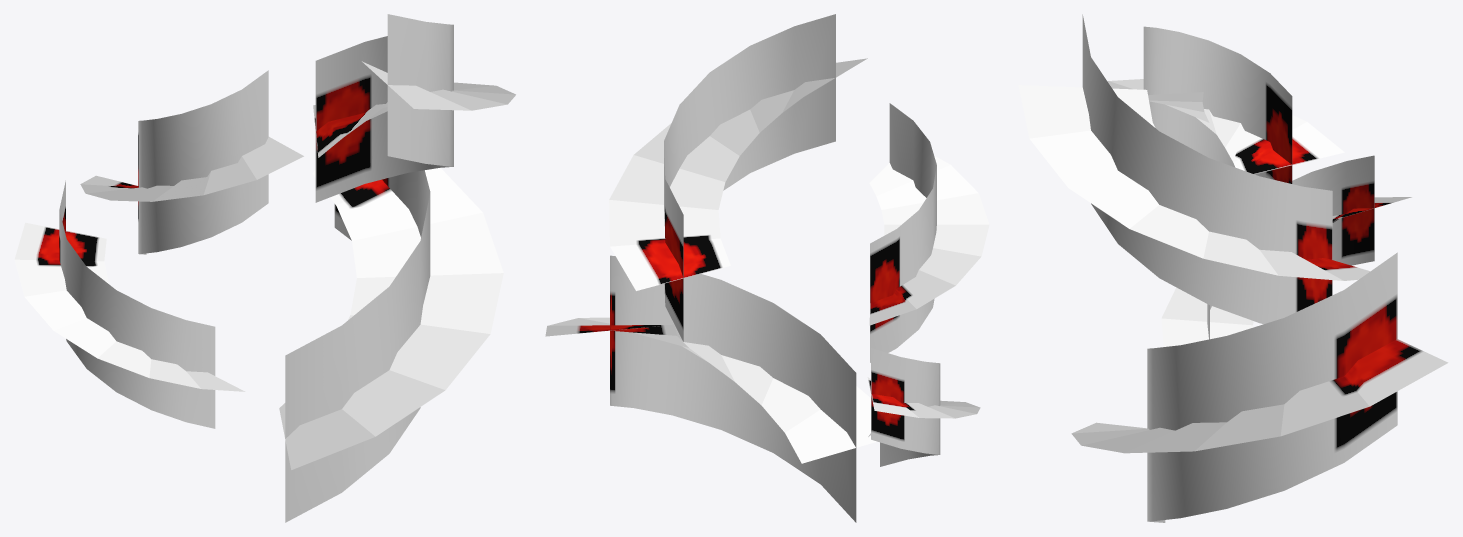
The model's file is effect_zhurong_standby.FBX.
3 views of the same model, side by side, from view 1: azimuth 30°, elevation 25°; view 2: azimuth 150°, elevation 25°; view 3: azimuth 270°, elevation 25° (orthographic). The views are drawn at different scales.
Parts seen in each view (by area): view 1: effect_zhurong_standby_1, effect_zhurong_standby_3, effect_zhurong_standby_2, effect_zhurong_standby_4; view 2: effect_zhurong_standby_1, effect_zhurong_standby_3, effect_zhurong_standby_4, effect_zhurong_standby_2; view 3: effect_zhurong_standby_1, effect_zhurong_standby_3, effect_zhurong_standby_4, effect_zhurong_standby_2.
Part boxes in pixels (x1,y1,x2,y2): effect_zhurong_standby_1: [279, 168, 503, 522]; effect_zhurong_standby_3: [313, 14, 515, 202]; effect_zhurong_standby_2: [14, 180, 245, 428]; effect_zhurong_standby_4: [80, 70, 303, 254]; effect_zhurong_standby_1: [545, 255, 876, 522]; effect_zhurong_standby_3: [609, 14, 867, 341]; effect_zhurong_standby_4: [869, 103, 989, 362]; effect_zhurong_standby_2: [867, 348, 980, 466]; effect_zhurong_standby_1: [1071, 252, 1448, 522]; effect_zhurong_standby_3: [1018, 14, 1369, 323]; effect_zhurong_standby_4: [1107, 26, 1344, 183]; effect_zhurong_standby_2: [1161, 155, 1411, 346].
Bounding box in the file's own units: 172 × 195 × 141.
Materials: 1 (1 with a texture image).
